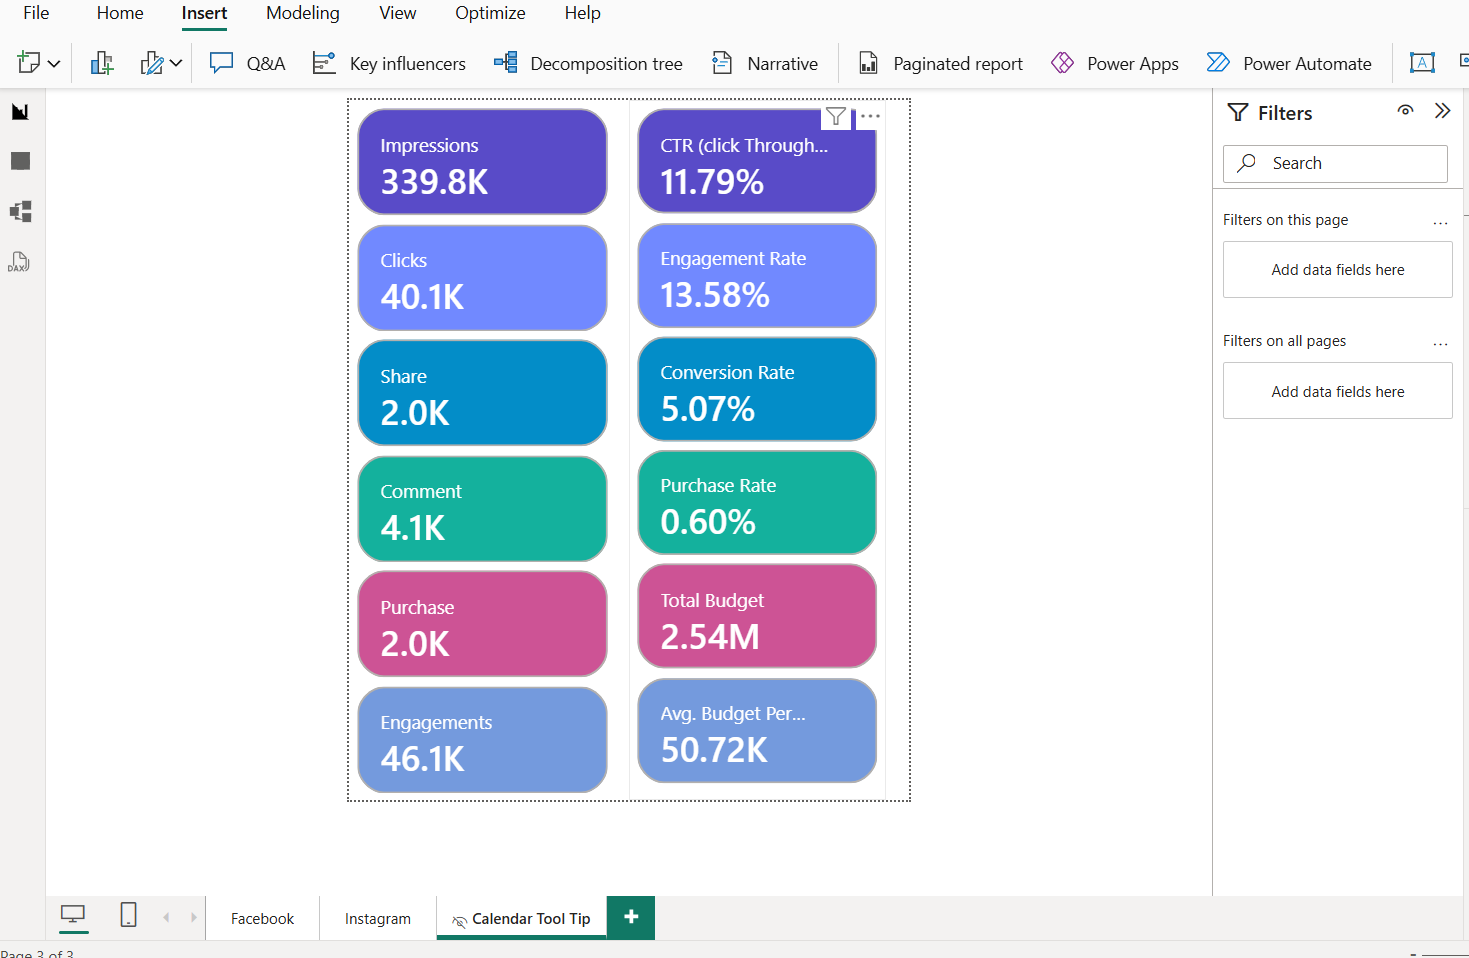

This screenshot's page, from the dashboard's own definition file:
{"tool":"powerbi","page":{"name":"Calendar Tool Tip","canvas":[320,400],"ordinal":2},"visuals":[{"type":"cardVisual","fields":{"Data":["ad_events.Impressions","ad_events.Clicks","ad_events.Share","ad_events.Comment","ad_events.Purchase","ad_events.Engagements"]},"box":[0,0,153,403],"z":0},{"type":"cardVisual","fields":{"Data":["ad_events.CTR (click Through Rate)","ad_events.Engagement Rate","ad_events.Conversion Rate","ad_events.Purchase Rate","ad_events.Total Budget","ad_events.Avg. Budget Per Campaign"]},"box":[160,0,147,400],"z":1000}]}

Visuals, with their boxes on the page's 320x400 design canvas (x1, y1, x2, y2). These are canvas units, not pixel positions in the 1469x958 screenshot, which may show the page scaled, cropped or inside an application window:
cardVisual - ad_events.Impressions x ad_events.Clicks: <box>0,0,153,403</box>
cardVisual - ad_events.CTR (click Through Rate) x ad_events.Engagement Rate: <box>160,0,307,400</box>
